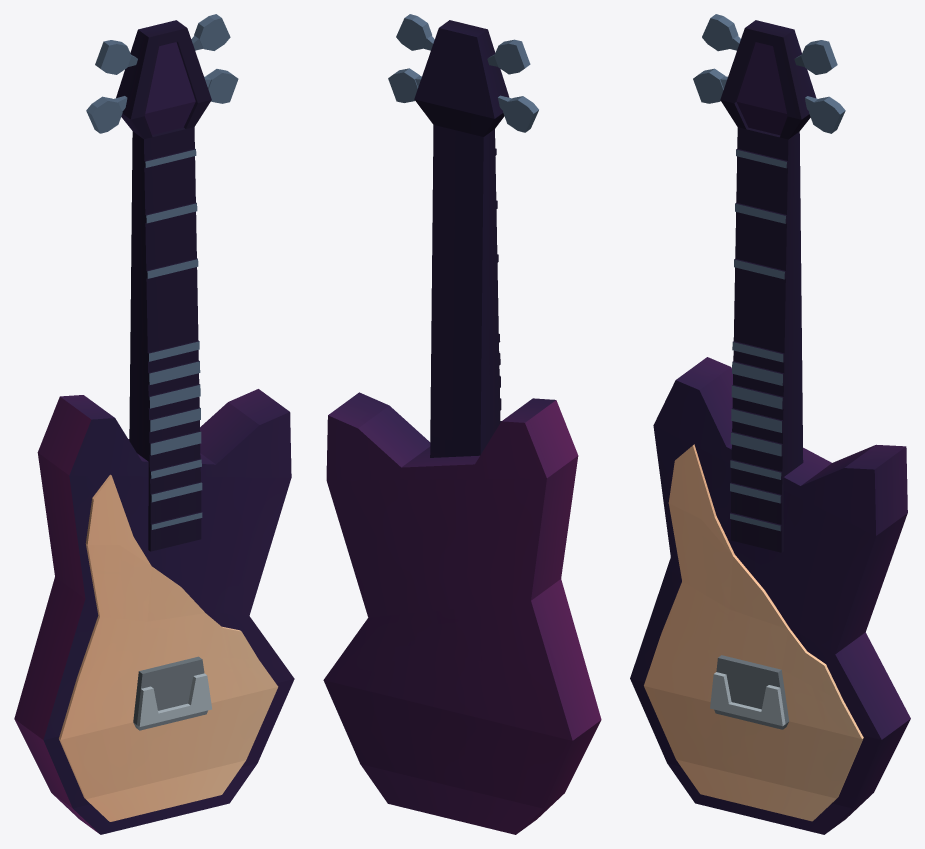
Rendered from Band_AxeSlaps.fbx.
3 renders of one model, left to right at view 1: azimuth 30°, elevation 25°; view 2: azimuth 150°, elevation 25°; view 3: azimuth 330°, elevation 25°, orthographic.
Parts seen in each view (by area): view 1: Cube.362; view 2: Cube.362; view 3: Cube.362.
Part boxes in pixels (x1,y1,x2,y2): Cube.362: [14, 14, 294, 834]; Cube.362: [323, 14, 601, 834]; Cube.362: [630, 14, 910, 834].
Size of the model in its own units: 28.15 by 84.06 by 7.52.
